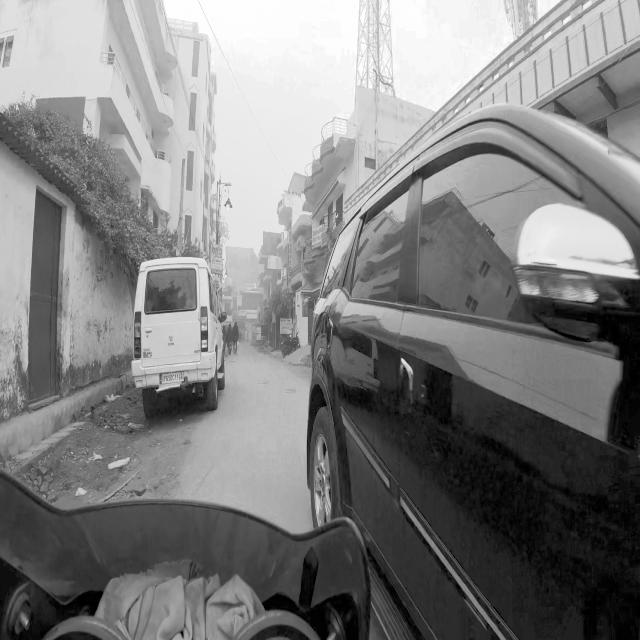Car: (305, 126, 640, 637), (122, 241, 237, 417)
